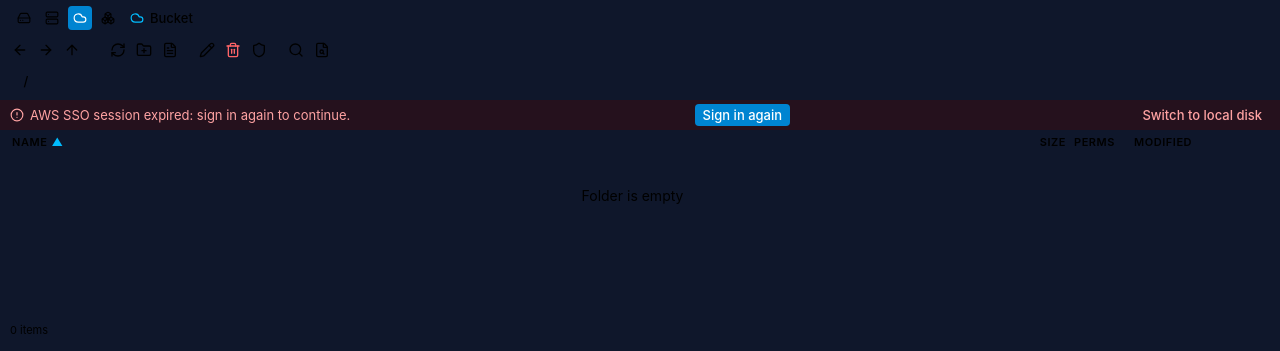
Scenario: FilePane AWS SSO sign-in › keeps the button when the sign-in is cancelled, and shows why
Click the button "Sign in again": (742, 115) top-left (695, 104), bottom-right (790, 126)
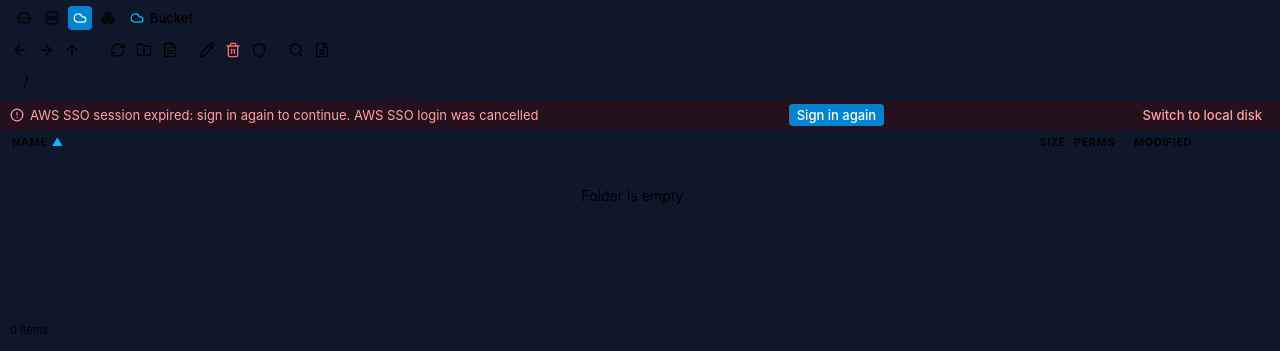
Expected: the button "Sign in again" is enabled, top-left (789, 104), bottom-right (884, 126)
Expected: the text "AWS SSO login was cancelled" is shown, top-left (30, 107), bottom-right (538, 123)
